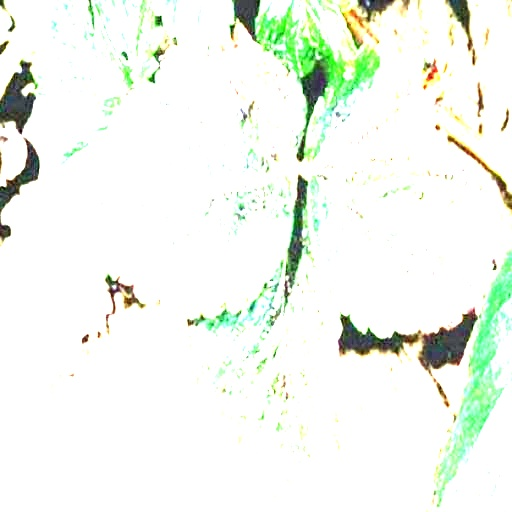Leaf Spot: (71, 16, 309, 322), (299, 37, 511, 339), (185, 210, 343, 511), (30, 0, 169, 127)
